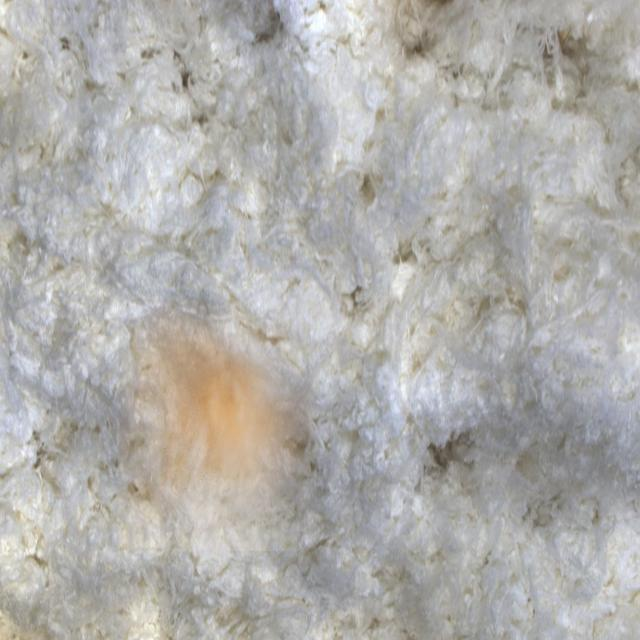dust: (119, 298, 317, 551)
